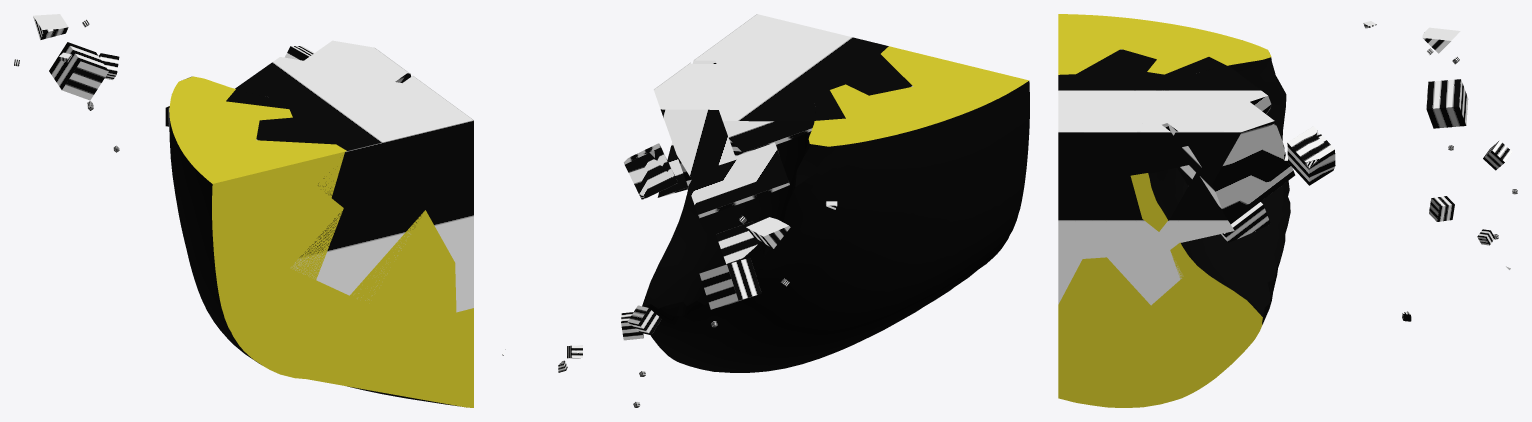
The model's file is SM_Apple_Front_RB_4.fbx.
3 renders of one model, left to right at view 1: azimuth 30°, elevation 25°; view 2: azimuth 150°, elevation 25°; view 3: azimuth 270°, elevation 25°, orthographic. The views are drawn at different scales.
Visible parts, largest first — view 1: apple crater.011, geng.010; view 2: apple crater.011, geng.010; view 3: apple crater.011, geng.010.
Part boxes in pixels (left/top/right/bottom): apple crater.011: left=169, top=76, right=473, bottom=407; geng.010: left=14, top=14, right=430, bottom=152; apple crater.011: left=642, top=14, right=1029, bottom=372; geng.010: left=502, top=46, right=837, bottom=407; apple crater.011: left=1058, top=14, right=1290, bottom=407; geng.010: left=1137, top=21, right=1517, bottom=321.
Size of the model in its own units: 110 by 120 by 180.
